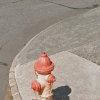Hydrant: (19, 44, 64, 98)
